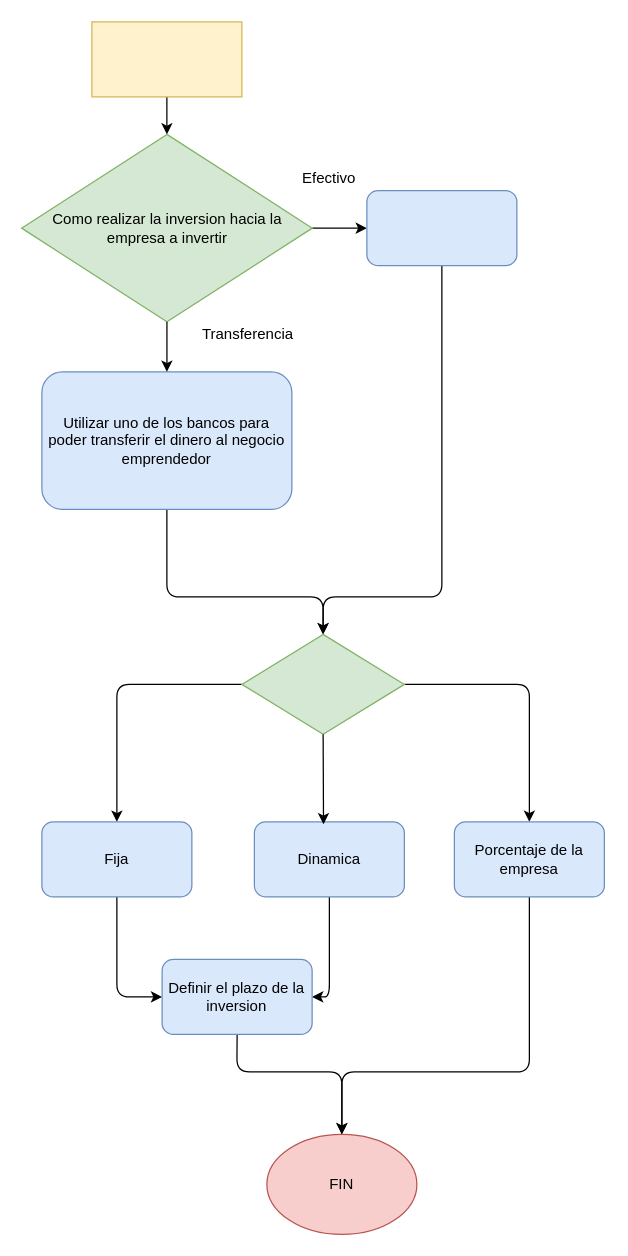
The diagram is 628 pixels wide and 1256 high, and some of its shapes have lost their labels. Each missing label, with the centre of its shape:
"Definir el tipo de inversion" belongs at point (322, 683).
"INICIO" belongs at point (166, 59).
"Pagar el dinero de contado en fisico" belongs at point (441, 227).
